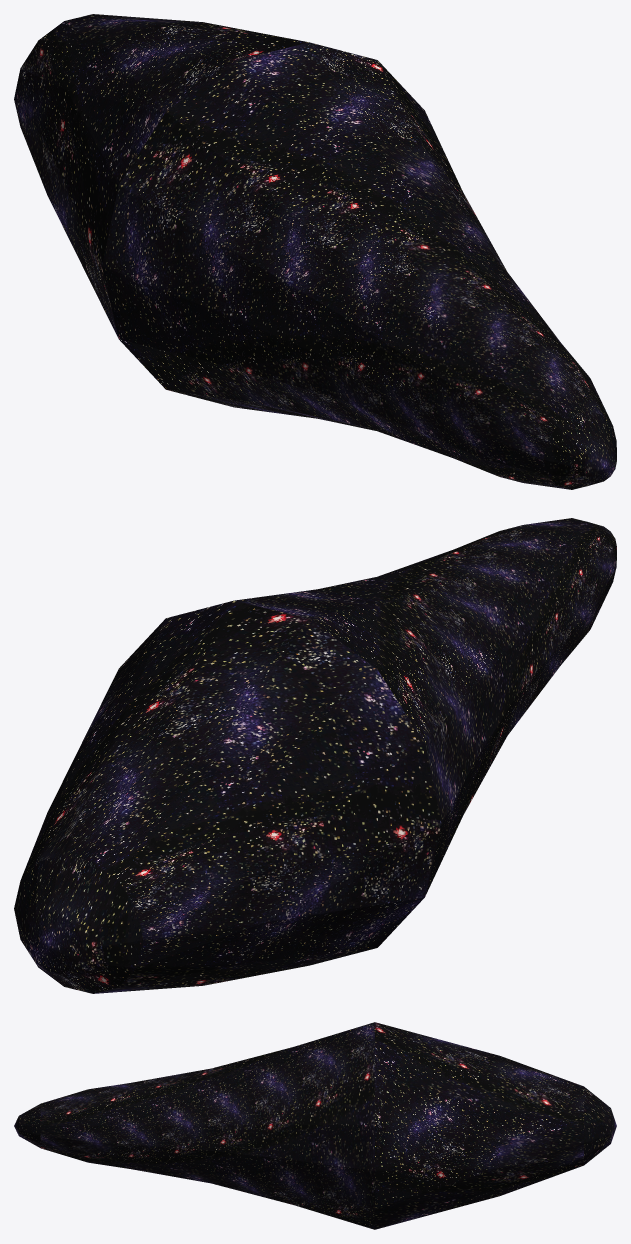
Rendered from WarpStone WarpTunnel.obj.
3 renders of one model, top to bottom at view 1: azimuth 30°, elevation 25°; view 2: azimuth 150°, elevation 25°; view 3: azimuth 270°, elevation 25°, orthographic. The views are drawn at different scales.
Parts seen in each view (by area): view 1: MODELS_bin_008:poly000; view 2: MODELS_bin_008:poly000; view 3: MODELS_bin_008:poly000.
Part boxes in pixels (x1,y1,x2,y2): MODELS_bin_008:poly000: (14,14,616,489); MODELS_bin_008:poly000: (14,518,616,993); MODELS_bin_008:poly000: (14,1022,616,1229).
Bounding box in the file's own units: 49.58 × 48.34 × 141.
Materials: 1 (1 with a texture image).
